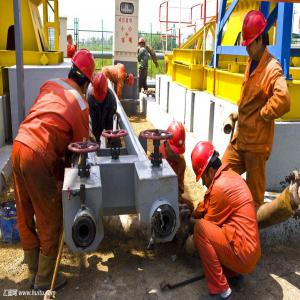none: (68, 33, 74, 48)
red: (240, 9, 270, 61), (192, 140, 222, 191), (70, 50, 96, 97), (166, 121, 188, 164), (94, 74, 109, 104), (126, 72, 136, 89), (140, 38, 147, 50)
